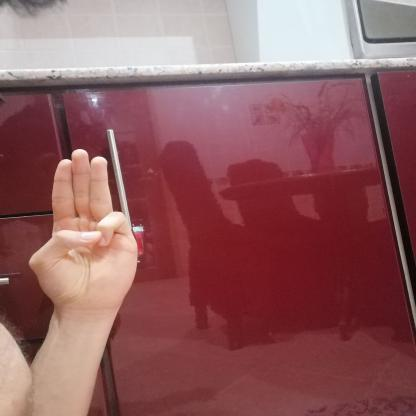THA: (16, 138, 150, 319)
